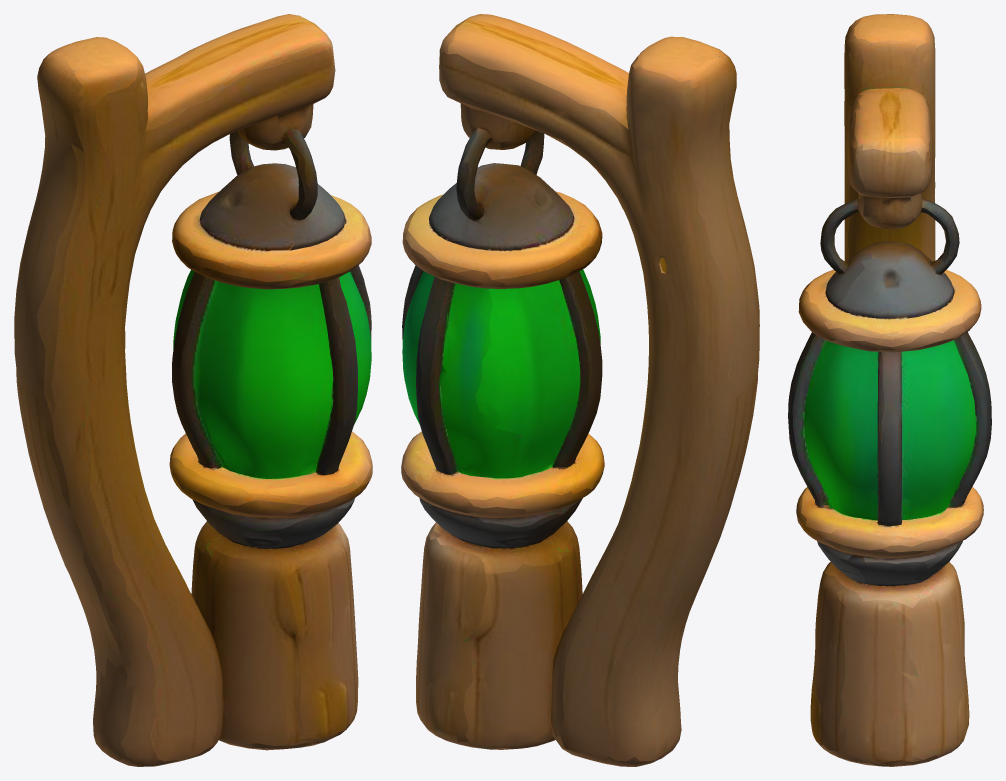
File: a-glowing-green-lantern-on-a-ben-424d47.glb
The picture shows the model from 3 angles, left to right: view 1: azimuth 30°, elevation 25°; view 2: azimuth 150°, elevation 25°; view 3: azimuth 270°, elevation 25°; orthographic projection. The views are drawn at different scales.
Parts seen in each view (by area): view 1: geometry_0; view 2: geometry_0; view 3: geometry_0.
Boxes of the visible parts, bbox=[...] form: geometry_0: bbox=[14, 14, 372, 766]; geometry_0: bbox=[401, 14, 759, 766]; geometry_0: bbox=[788, 14, 991, 766].
Size of the model in its own units: 0.5027 by 1 by 0.2891.
Materials: 1 (1 with a texture image).
